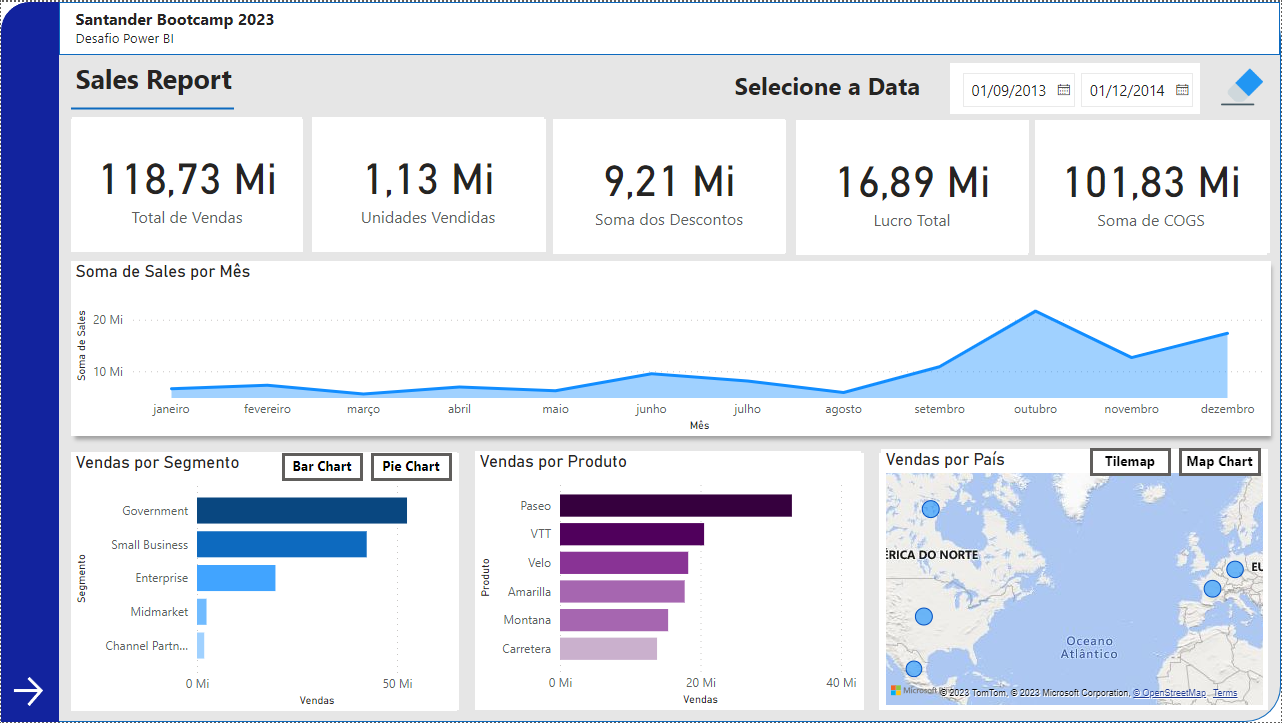

Layout of this report page (visuals, bound fields, positions):
{"tool":"powerbi","page":{"name":"Página 1","canvas":[1280,720],"ordinal":0},"visuals":[{"type":"shape","box":[0,0,1280,720.2],"z":0},{"type":"slicer","fields":{"Values":["financials.Date"]},"box":[948.3,61.3,250,50.6],"z":0,"group":"g3"},{"type":"shape","box":[70,116.6,232.5,133.2],"z":0,"group":"g1"},{"type":"shape","box":[70,450.9,387.7,257.6],"z":0,"group":"g2"},{"type":"shape","box":[0,0,58.3,720.2],"z":1000},{"type":"image","box":[1214.9,58.3,51.5,53.5],"z":1000,"group":"g3"},{"type":"shape","box":[312.5,116.6,232.5,133.2],"z":1000,"group":"g1"},{"type":"shape","box":[475.3,450.9,387.7,257.6],"z":1000,"group":"g2"},{"type":"shape","box":[57.5,0,1221.4,53],"z":2000},{"type":"textbox","box":[728.5,62.2,219.8,49.6],"z":2000,"group":"g3"},{"type":"shape","box":[553,117.9,232.5,133.2],"z":2000,"group":"g1"},{"type":"shape","box":[878.3,450.9,387.7,257.6],"z":2000,"group":"g2"},{"type":"clusteredBarChart","fields":{"Y":["Sum(financials. Sales)"],"Category":["financials.Product"]},"box":[474.3,449,385.8,259.5],"z":2500,"group":"g2"},{"type":"textbox","box":[70,1,384.9,50.5],"z":3000},{"type":"shape","box":[1210,59,60.3,54.5],"z":3000,"group":"g3"},{"type":"shape","box":[795.5,117.9,232.5,133.2],"z":3000,"group":"g1"},{"type":"clusteredBarChart","fields":{"Y":["Sum(financials. Sales)"],"Category":["financials.Segment"]},"box":[70,450,385.8,259.5],"z":3000,"group":"g2"},{"type":"actionButton","box":[369.9,451.1,81.2,28.2],"z":3062,"group":"g2"},{"type":"actionButton","box":[280.8,451.1,81.2,28.2],"z":3125,"group":"g2"},{"type":"columnChart","fields":{"Category":["financials.Country"],"Y":["Sum(financials. Sales)"]},"box":[880.9,446.4,388.7,261.4],"z":3500,"group":"g2"},{"type":"group","id":"g1","title":"Grupo 1","box":[70,115,1199,136],"z":4000},{"type":"shape","box":[1036.5,117.6,232.5,133.2],"z":4000,"group":"g1"},{"type":"actionButton","box":[1178.4,446.4,81.2,28.2],"z":4500,"group":"g2"},{"type":"shape","box":[70,75.8,163.3,61.2],"z":5000},{"type":"card","fields":{"Values":["Sum(financials. Sales)"]},"box":[71,115,230.3,135.1],"z":5000,"group":"g1"},{"type":"actionButton","box":[1089.3,446.4,81.2,28.2],"z":5000,"group":"g2"},{"type":"textbox","box":[70,53.5,175.9,48.6],"z":6000},{"type":"shape","box":[61.2,250.8,1214.9,192.4],"z":7000},{"type":"group","id":"g2","title":"Grupo 2","box":[70,446.4,1199.6,263.4],"z":8000},{"type":"areaChart","fields":{"Category":["financials.Date.Variation.Hierarquia de datas.Mês"],"Y":["Sum(financials. Sales)"]},"box":[70,258.5,1200.3,175.9],"z":9000},{"type":"card","fields":{"Values":["Sum(financials.Units Sold)"]},"box":[311,114.7,232.3,135.1],"z":10000},{"type":"card","fields":{"Values":["Sum(financials.Discounts)"]},"box":[552,116.6,232.3,135.1],"z":11000},{"type":"card","fields":{"Values":["Sum(financials.Profit)"]},"box":[795,117.6,232.3,135.1],"z":12000},{"type":"card","fields":{"Values":["Sum(financials.COGS)"]},"box":[1034.1,117.6,232.3,135.1],"z":13000},{"type":"group","id":"g3","title":"Grupo 3","box":[728.5,58.3,541.8,55.2],"z":14000},{"type":"actionButton","box":[6.8,669.9,42.9,39.5],"z":15000}]}

Visuals, with their boxes on the page's 1280x720 design canvas (x1, y1, x2, y2). These are canvas units, not pixel positions in the 1282x723 screenshot, which may show the page scaled, cropped or inside an application window:
shape: [0, 0, 1280, 720]
slicer - financials.Date: [948, 61, 1198, 112]
shape: [70, 117, 302, 250]
shape: [70, 451, 458, 708]
shape: [0, 0, 58, 720]
image: [1215, 58, 1266, 112]
shape: [312, 117, 545, 250]
shape: [475, 451, 863, 708]
shape: [58, 0, 1279, 53]
textbox: [728, 62, 948, 112]
shape: [553, 118, 786, 251]
shape: [878, 451, 1266, 708]
clusteredBarChart - Sum(financials. Sales) x financials.Product: [474, 449, 860, 708]
textbox: [70, 1, 455, 52]
shape: [1210, 59, 1270, 114]
shape: [796, 118, 1028, 251]
clusteredBarChart - Sum(financials. Sales) x financials.Segment: [70, 450, 456, 710]
actionButton: [370, 451, 451, 479]
actionButton: [281, 451, 362, 479]
columnChart - financials.Country x Sum(financials. Sales): [881, 446, 1270, 708]
"Grupo 1" group: [70, 115, 1269, 251]
shape: [1036, 118, 1269, 251]
actionButton: [1178, 446, 1260, 475]
shape: [70, 76, 233, 137]
card - Sum(financials. Sales): [71, 115, 301, 250]
actionButton: [1089, 446, 1170, 475]
textbox: [70, 54, 246, 102]
shape: [61, 251, 1276, 443]
"Grupo 2" group: [70, 446, 1270, 710]
areaChart - financials.Date.Variation.Hierarquia de datas.Mês x Sum(financials. Sales): [70, 258, 1270, 434]
card - Sum(financials.Units Sold): [311, 115, 543, 250]
card - Sum(financials.Discounts): [552, 117, 784, 252]
card - Sum(financials.Profit): [795, 118, 1027, 253]
card - Sum(financials.COGS): [1034, 118, 1266, 253]
"Grupo 3" group: [728, 58, 1270, 114]
actionButton: [7, 670, 50, 709]
